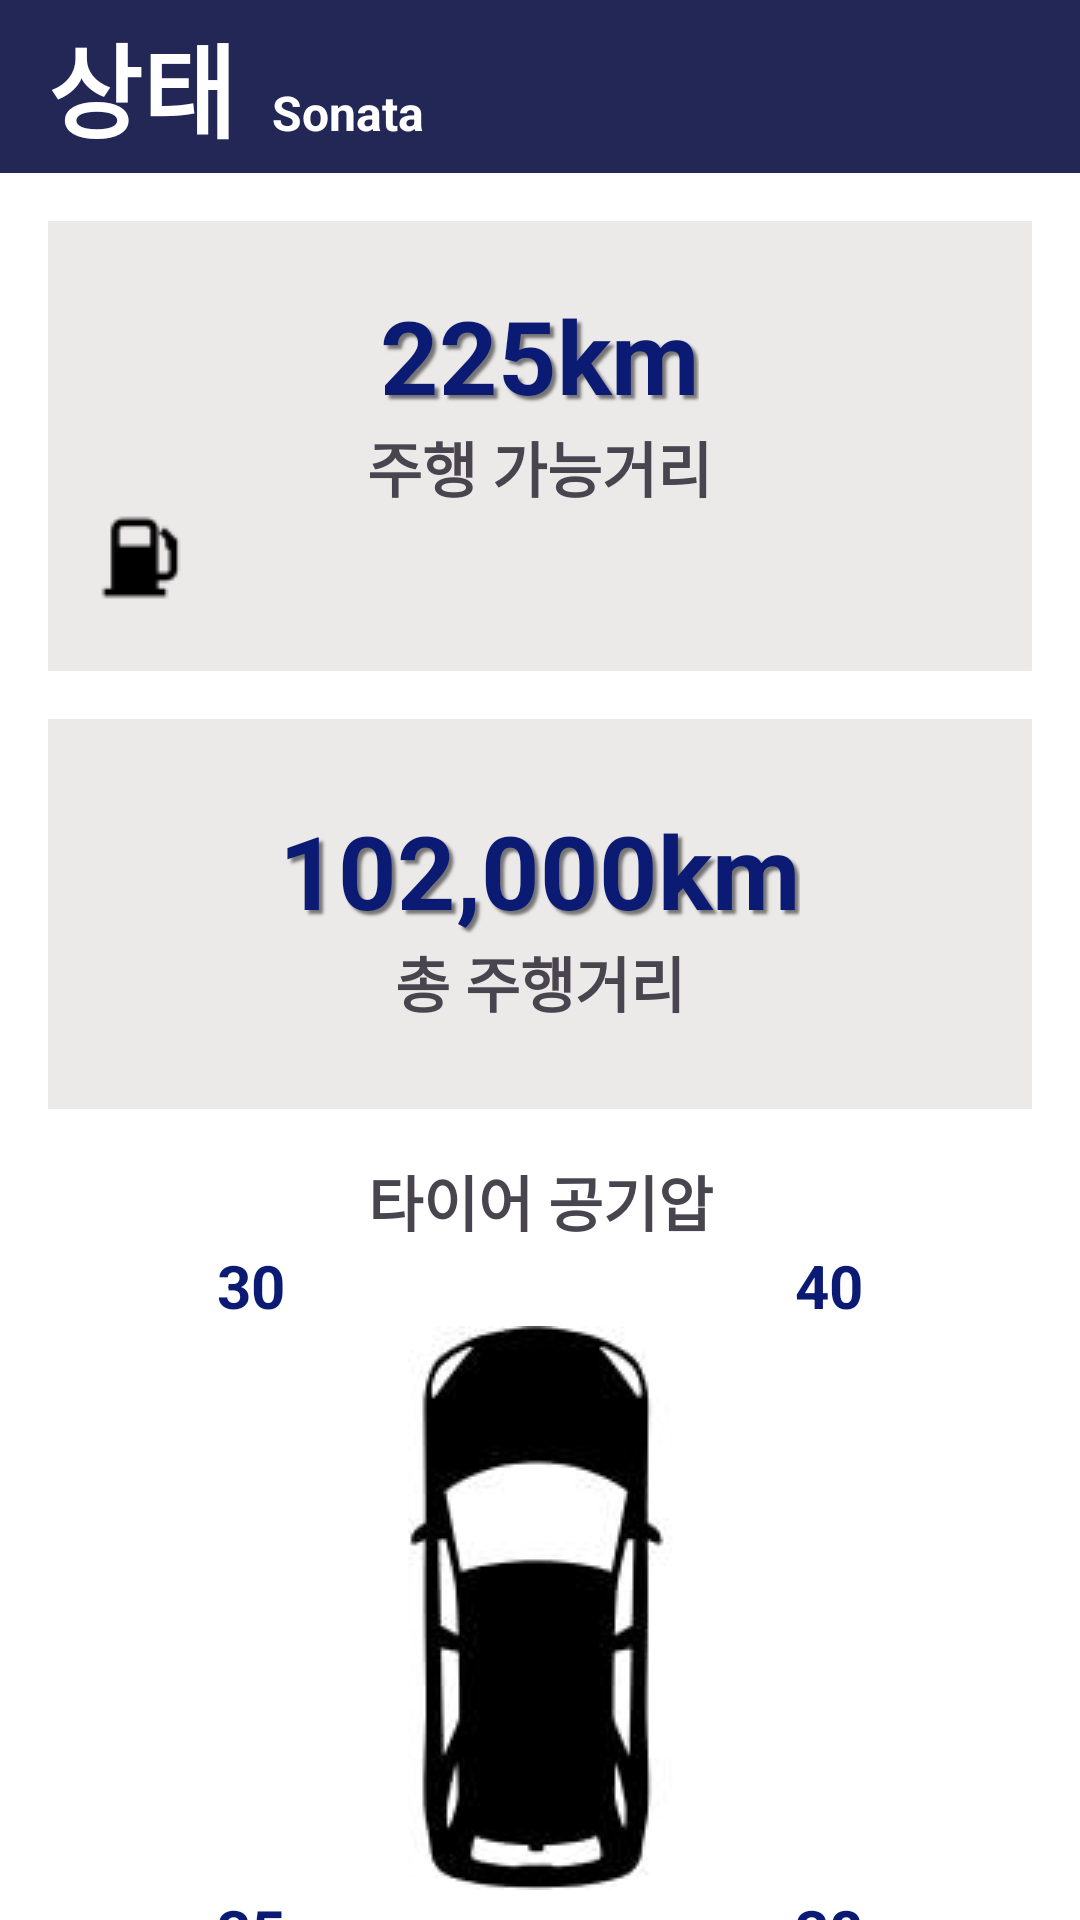

Named icons in this screenshot (1080px×1920px) and their centers, (x,y):
gas: (140,557)
